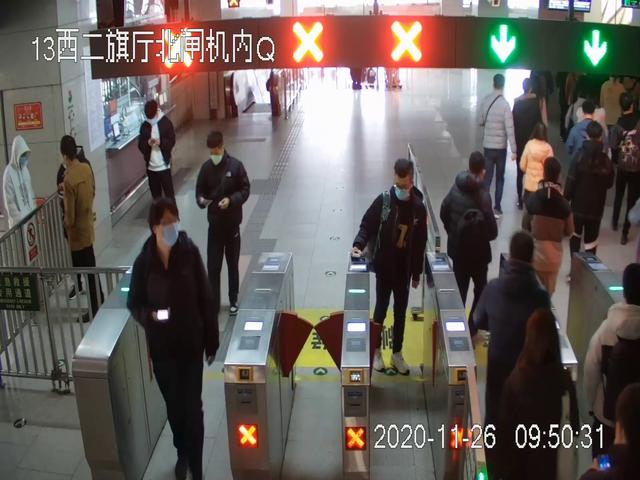person: (126, 198, 220, 480), (473, 232, 550, 480), (352, 158, 426, 374), (441, 152, 497, 338), (195, 130, 250, 315), (56, 135, 103, 322), (566, 123, 614, 281), (521, 157, 569, 312), (2, 135, 38, 308), (139, 100, 182, 226), (478, 73, 514, 216), (612, 92, 640, 244), (513, 80, 544, 209), (520, 125, 554, 241)
